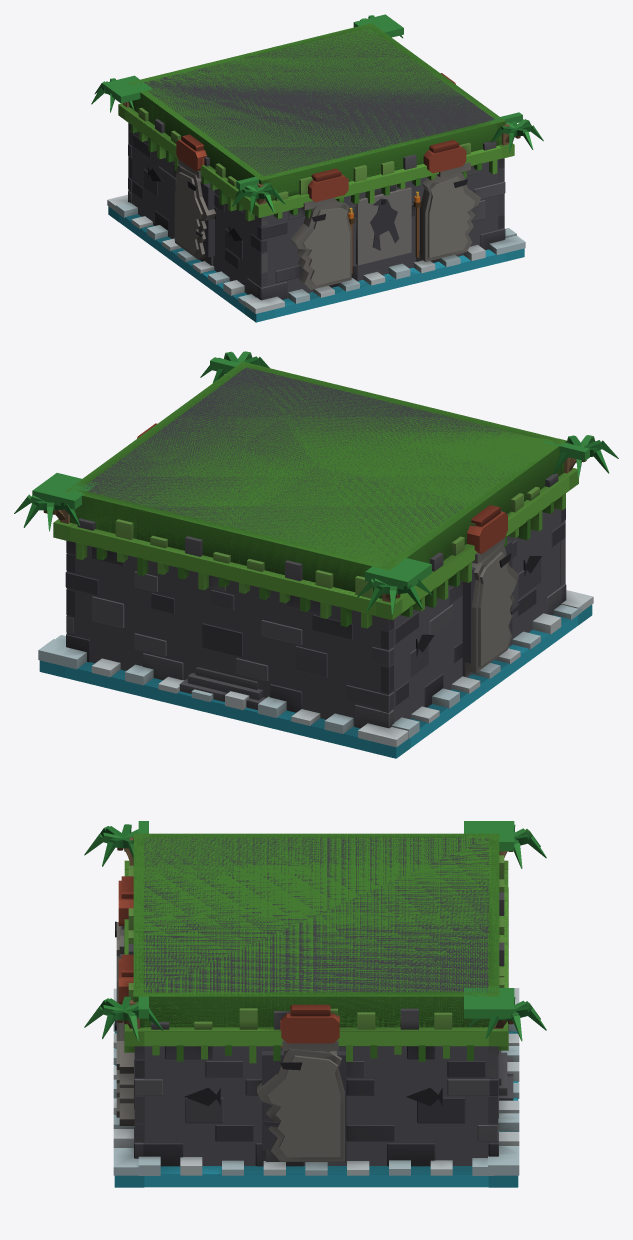
Rendered from MoaiFloor.fbx.
The picture shows the model from 3 angles, top to bottom: view 1: azimuth 30°, elevation 25°; view 2: azimuth 150°, elevation 25°; view 3: azimuth 270°, elevation 25°; orthographic projection. The views are drawn at different scales.
Visible parts, largest first — view 1: MO_S_All, MO_F_Props, MO_F_Smooth, MO_F_Quiet, MO_F_Rings; view 2: MO_S_All, MO_F_Smooth, MO_F_Quiet, MO_F_Rings, MO_F_Props; view 3: MO_S_All, MO_F_Smooth, MO_F_Quiet, MO_F_Props, MO_F_Rings.
Part boxes in pixels (x1=…): MO_S_All: x1=102, y1=14, x2=522, y2=317; MO_F_Props: x1=101, y1=15, x2=533, y2=289; MO_F_Smooth: x1=91, y1=17, x2=543, y2=313; MO_F_Quiet: x1=108, y1=23, x2=524, y2=322; MO_F_Rings: x1=128, y1=123, x2=504, y2=299; MO_S_All: x1=32, y1=357, x2=589, y2=758; MO_F_Smooth: x1=14, y1=353, x2=618, y2=747; MO_F_Quiet: x1=40, y1=361, x2=592, y2=758; MO_F_Rings: x1=66, y1=521, x2=565, y2=728; MO_F_Props: x1=28, y1=351, x2=604, y2=676; MO_S_All: x1=124, y1=821, x2=518, y2=1187; MO_F_Smooth: x1=84, y1=826, x2=546, y2=1175; MO_F_Quiet: x1=114, y1=833, x2=517, y2=1187; MO_F_Props: x1=100, y1=824, x2=532, y2=1161; MO_F_Rings: x1=134, y1=1046, x2=498, y2=1166.
Size of the model in its own units: 60 by 20 by 60.
